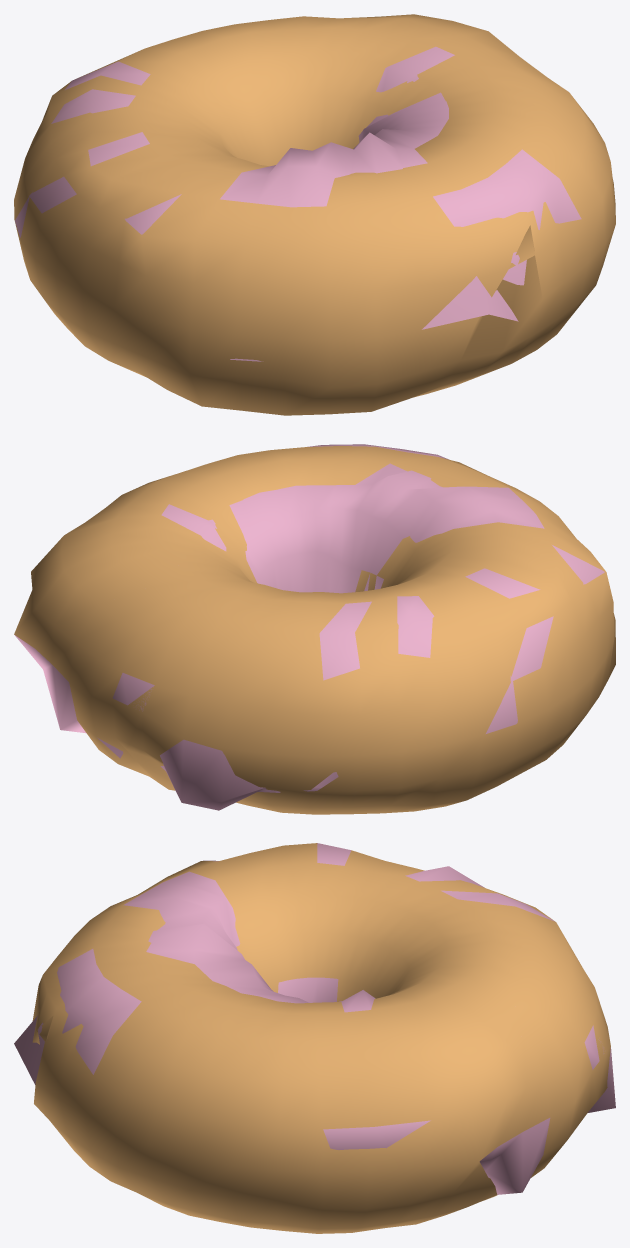
File: Donut.glb
3 views of the same model, one above another, from view 1: azimuth 30°, elevation 25°; view 2: azimuth 150°, elevation 25°; view 3: azimuth 270°, elevation 25° (orthographic). The views are drawn at different scales.
Visible parts, largest first — view 1: Donut, Icing; view 2: Donut, Icing; view 3: Donut, Icing.
Boxes of the visible parts, <box> form: Donut: <box>14,14,615,415</box>; Icing: <box>15,46,581,361</box>; Donut: <box>14,446,615,814</box>; Icing: <box>15,444,604,810</box>; Donut: <box>32,843,610,1233</box>; Icing: <box>14,843,615,1194</box>.
Size of what is drawn, in the model's own units: 0.3114 by 0.1321 by 0.3199.
